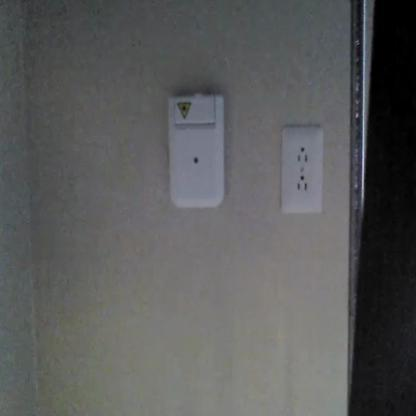OUTLET: (282, 126, 324, 214)
